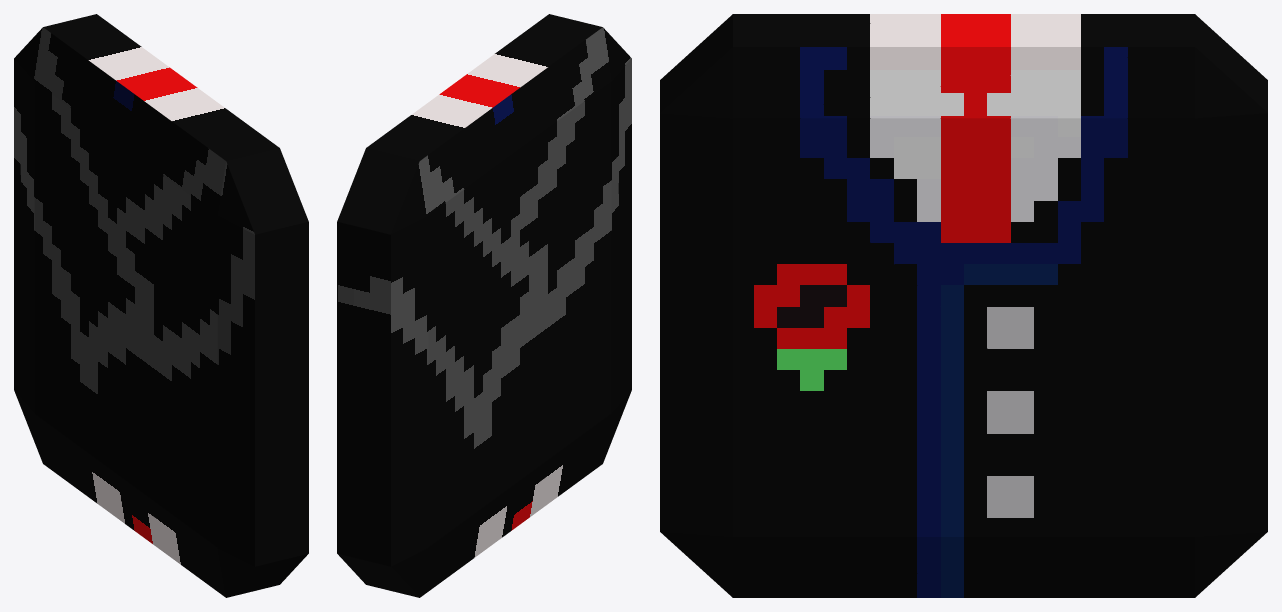
File: cloth_upper.glb
The picture shows the model from 3 angles, left to right: view 1: azimuth 30°, elevation 25°; view 2: azimuth 150°, elevation 25°; view 3: azimuth 270°, elevation 25°; orthographic projection. The views are drawn at different scales.
Visible parts, largest first — view 1: cloth_upper; view 2: cloth_upper; view 3: cloth_upper.
Part boxes in pixels (x1,y1,x2,y2): cloth_upper: [14, 14, 308, 597]; cloth_upper: [337, 14, 631, 597]; cloth_upper: [660, 14, 1267, 597].
Size of the model in its own units: 0.2203 by 1.3 by 1.3.
Materials: 1 (1 with a texture image).
